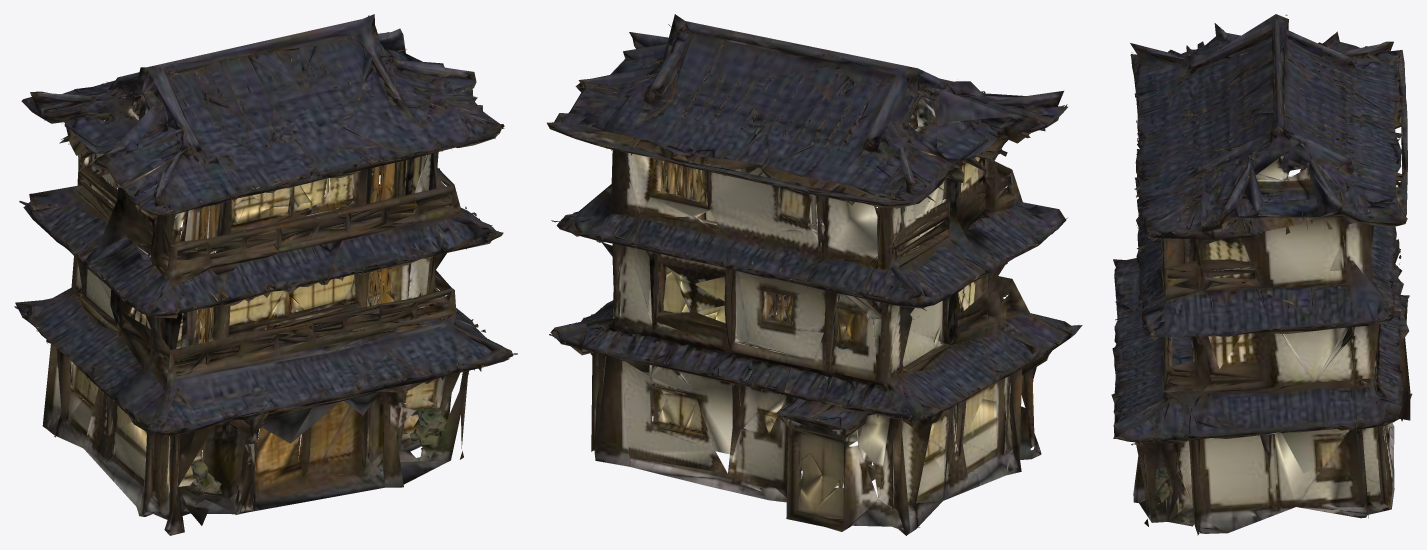
File: candidate.glb
The picture shows the model from 3 angles, left to right: view 1: azimuth 30°, elevation 25°; view 2: azimuth 150°, elevation 25°; view 3: azimuth 270°, elevation 25°; orthographic projection. The views are drawn at different scales.
Parts seen in each view (by area): view 1: compact__hotel_3__native_mobile; view 2: compact__hotel_3__native_mobile; view 3: compact__hotel_3__native_mobile.
Part boxes in pixels (x1,y1,x2,y2): compact__hotel_3__native_mobile: (14,14,517,535); compact__hotel_3__native_mobile: (547,14,1082,535); compact__hotel_3__native_mobile: (1111,14,1412,535).
Size of the model in its own units: 0.9779 by 1 by 0.6798.
Materials: 1 (1 with a texture image).
